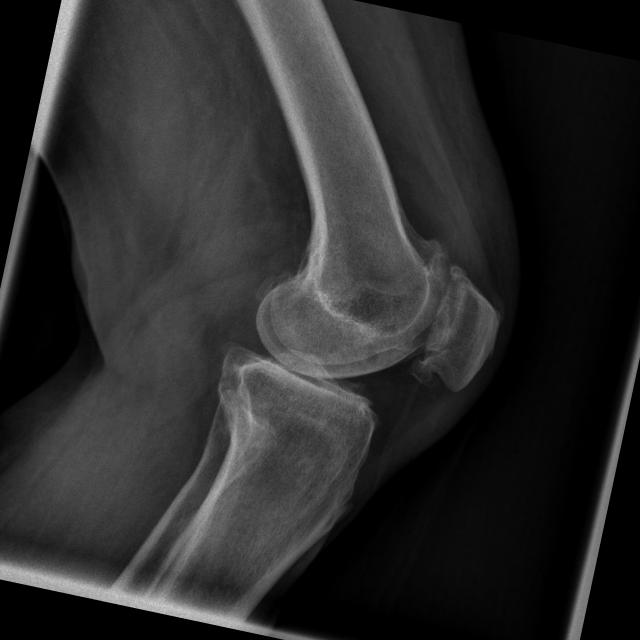Knee: (209, 217, 516, 468)
